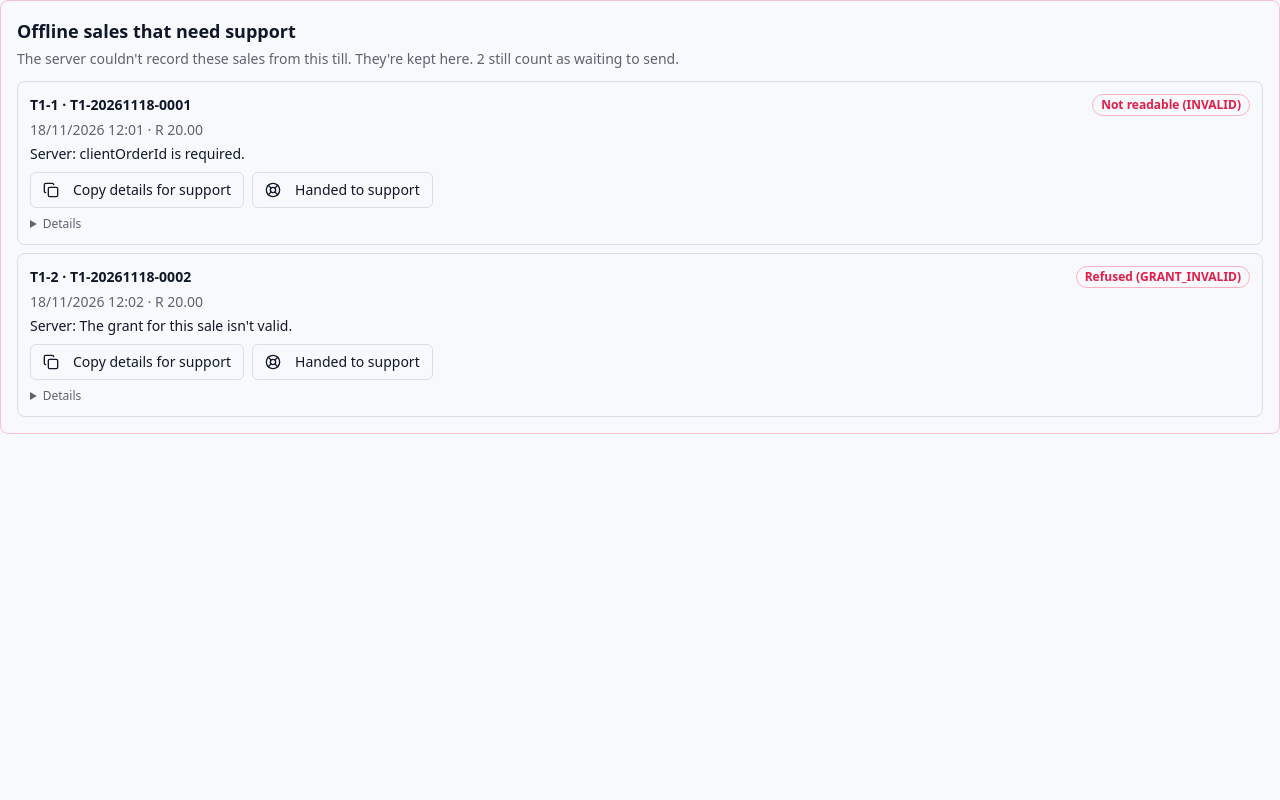
Scenario: OfflineSalesSupportCard › an ADMIN hands a sale to support with a reason: kept, no longer counted
The width and height of the screenshot is (1280, 800).
Click the button "Handed to support" below "T1-1" at (342, 190), box [252,172,433,208]
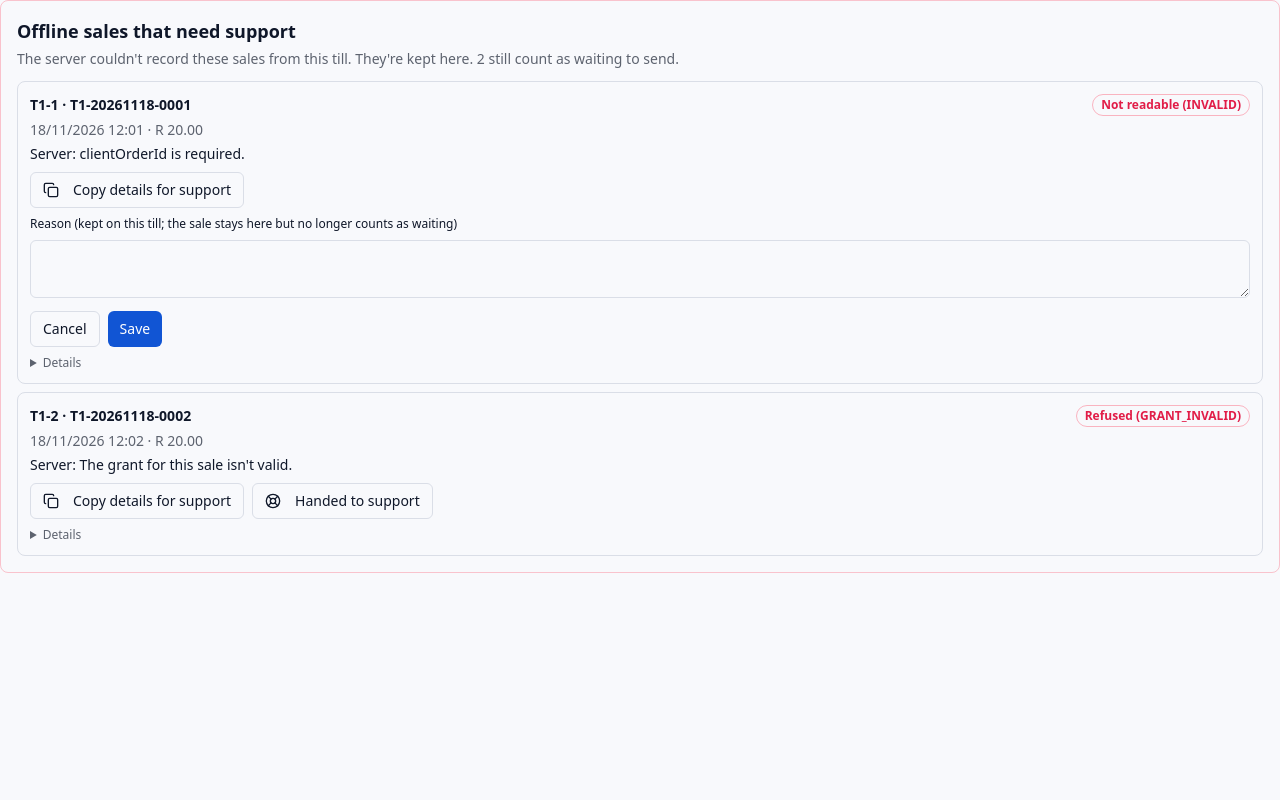
Click the button "Save" at (135, 329), box [108,311,162,347]
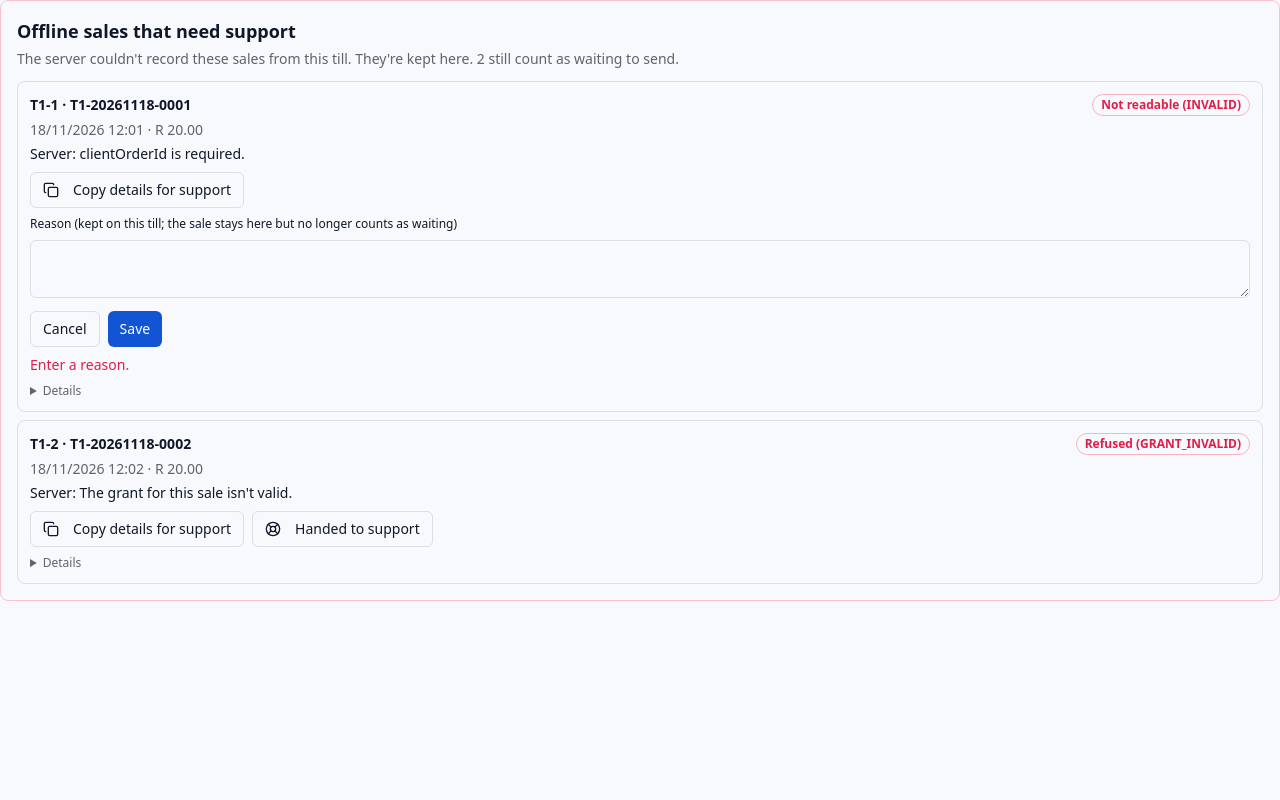
Expected: the message reads "Enter a reason.", [30,355,129,374]
Type "Emailed to support, ticket 4411" into the text box labelled "Reason" at (640, 269), box [30,240,1250,298]
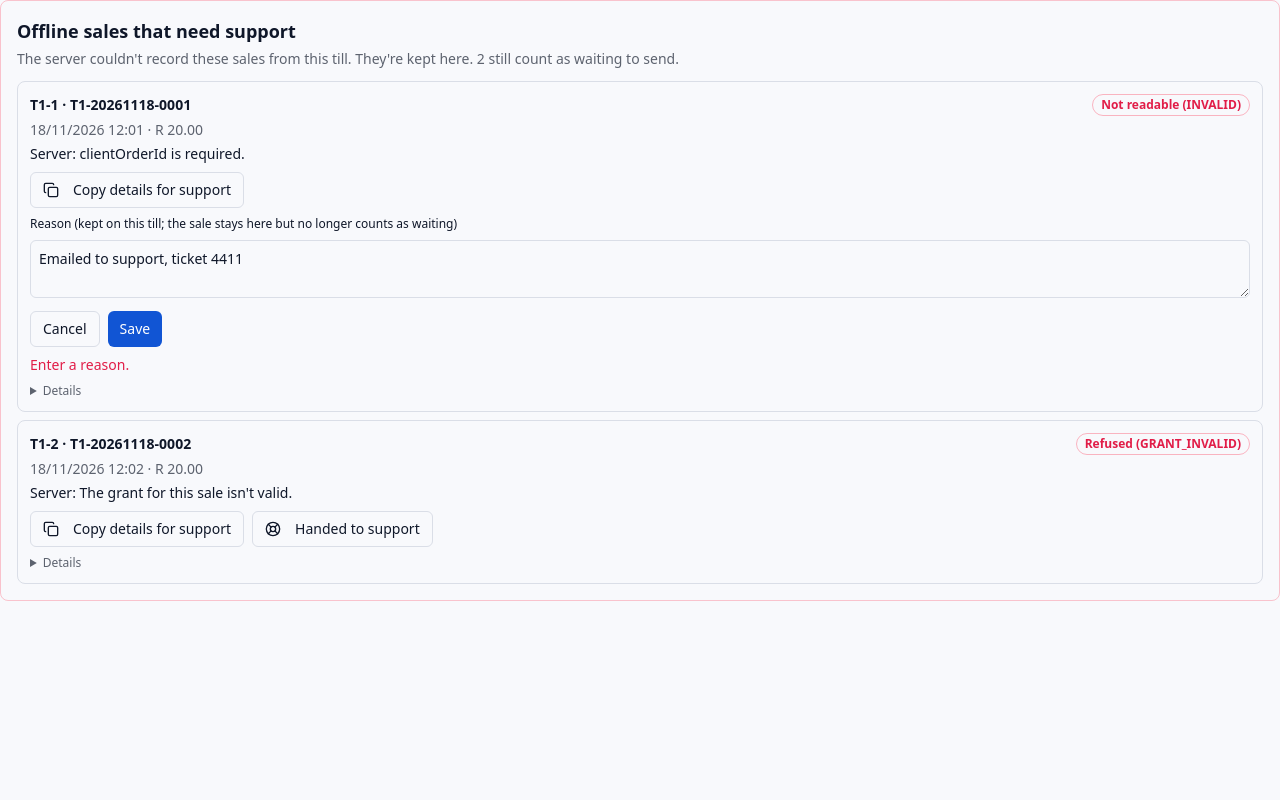
Click the button "Save" at (135, 329), box [108,311,162,347]
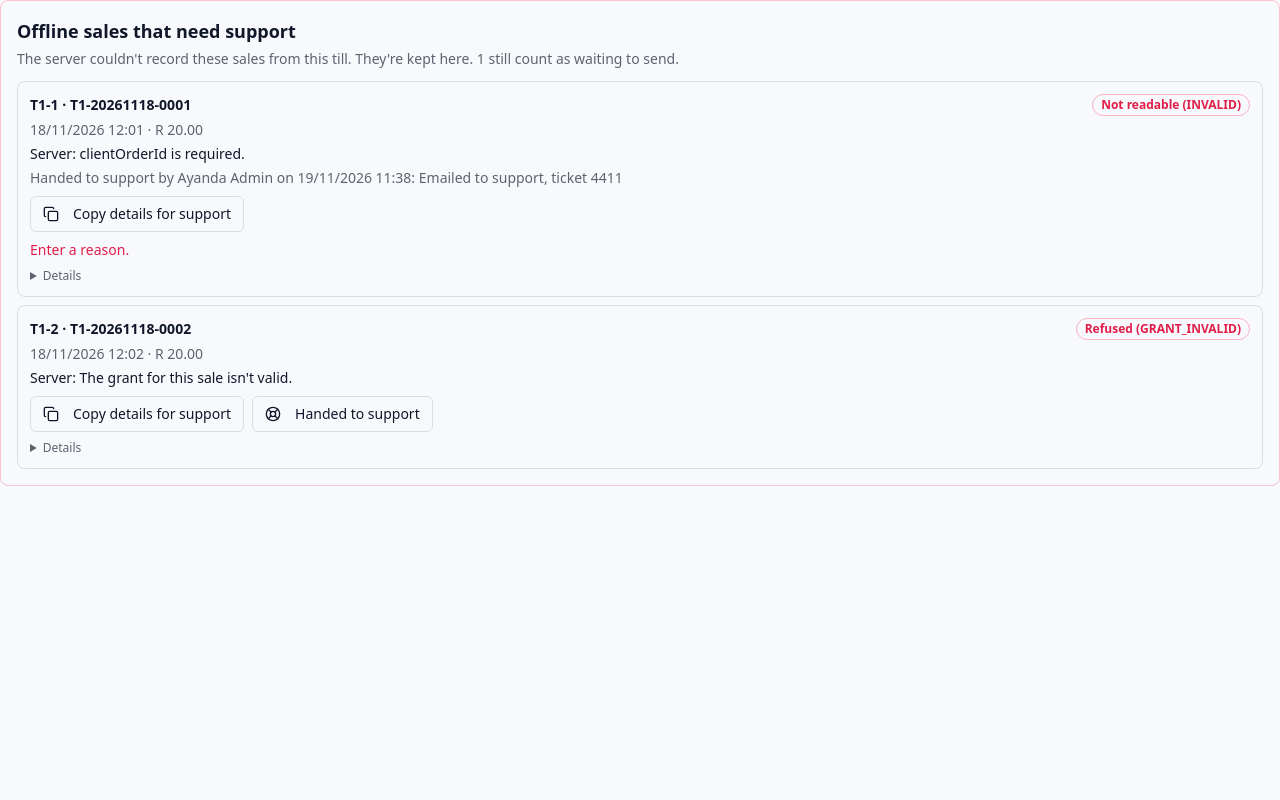
Expected: the text "Handed to support by Ayanda Admin" is shown, [30,168,623,187]
Expected: the text "1 still count as waiting to send" is shown, [477,49,679,68]
